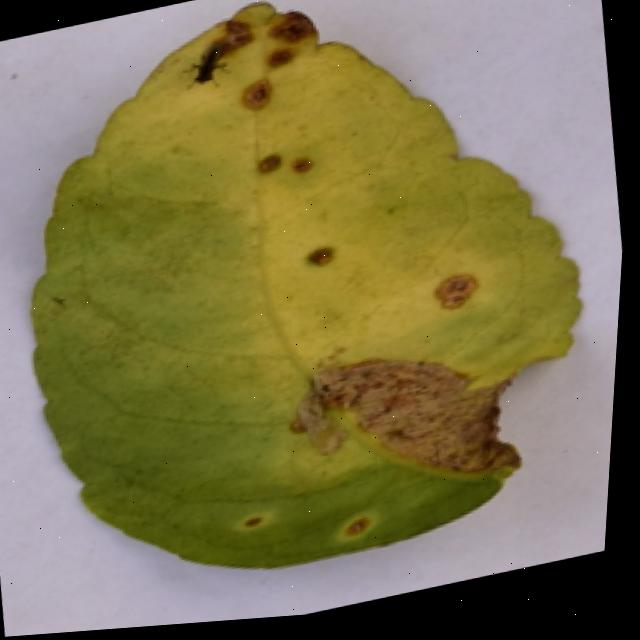canker: (31, 6, 576, 569), (175, 0, 317, 245), (232, 490, 387, 560), (406, 246, 491, 327), (294, 231, 346, 282)
